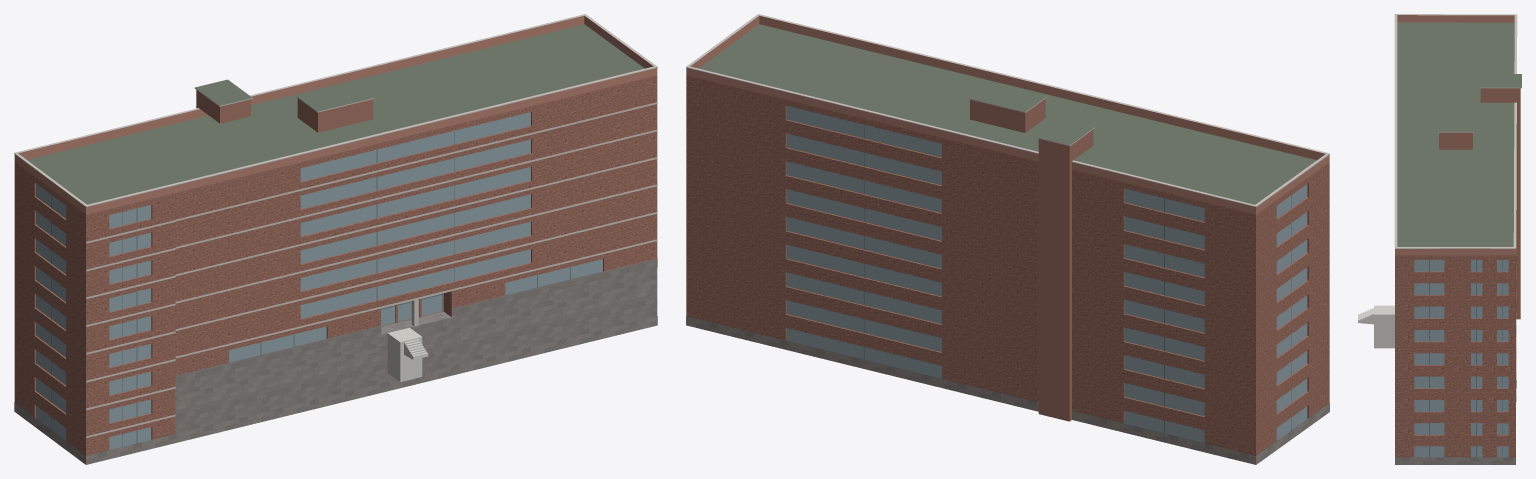
The picture shows the model from 3 angles, left to right: view 1: azimuth 30°, elevation 25°; view 2: azimuth 150°, elevation 25°; view 3: azimuth 270°, elevation 25°; orthographic projection. The views are drawn at different scales.
Visible parts, largest first — view 1: law15__wall, law15__roof, law15__glass, law15__base, law15__trim, law15__parapet, law15__wall2, law15__entranceStair, law15__frame; view 2: law15__wall, law15__glass, law15__roof, law15__wall2, law15__parapet, law15__base, law15__trim; view 3: law15__roof, law15__wall, law15__glass, law15__wall2, law15__trim, law15__parapet, law15__entranceStair, law15__base, law15__frame.
Part boxes in pixels (<box>): law15__wall: <box>14,75,657,464</box>; law15__roof: <box>27,24,654,442</box>; law15__glass: <box>36,112,602,449</box>; law15__base: <box>14,258,657,464</box>; law15__trim: <box>14,14,657,437</box>; law15__parapet: <box>14,15,657,214</box>; law15__wall2: <box>196,90,373,132</box>; law15__entranceStair: <box>387,327,428,381</box>; law15__frame: <box>51,131,570,446</box>; law15__wall: <box>686,75,1329,464</box>; law15__glass: <box>786,106,1307,442</box>; law15__roof: <box>699,24,1316,204</box>; law15__wall2: <box>970,98,1093,421</box>; law15__parapet: <box>686,15,1329,214</box>; law15__base: <box>686,316,1329,464</box>; law15__trim: <box>686,14,1329,207</box>; law15__roof: <box>1397,22,1521,401</box>; law15__wall: <box>1395,248,1516,457</box>; law15__glass: <box>1414,260,1508,457</box>; law15__wall2: <box>1439,88,1520,319</box>; law15__trim: <box>1394,14,1521,248</box>; law15__parapet: <box>1395,15,1515,255</box>; law15__entranceStair: <box>1358,305,1394,348</box>; law15__base: <box>1395,380,1516,464</box>; law15__frame: <box>1429,260,1502,457</box>.
Bounding box in the file's own units: 77.61 × 35.93 × 22.94.
11 materials, 2 textured.
